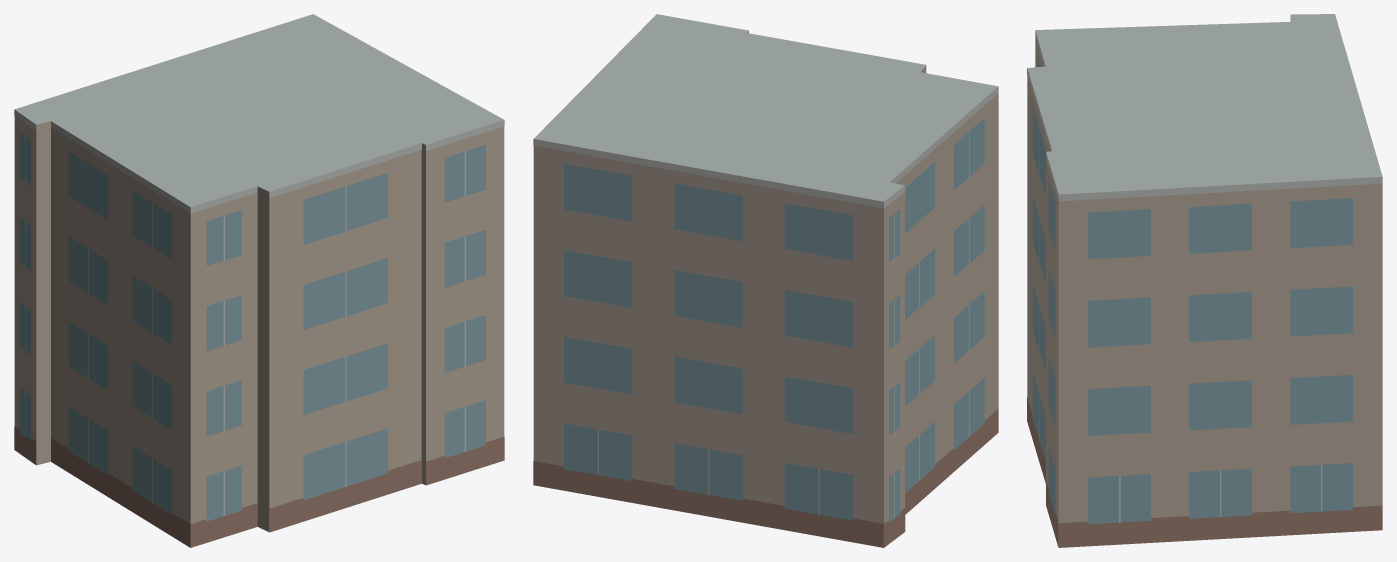
Rendered from survey-upis-33006576.glb.
The picture shows the model from 3 angles, left to right: view 1: azimuth 30°, elevation 25°; view 2: azimuth 150°, elevation 25°; view 3: azimuth 270°, elevation 25°; orthographic projection. The views are drawn at different scales.
Visible parts, largest first — view 1: survey-upis-33006576.tmp; view 2: survey-upis-33006576.tmp; view 3: survey-upis-33006576.tmp.
Part boxes in pixels (left/top/right/bottom): survey-upis-33006576.tmp: left=14, top=14, right=504, bottom=547; survey-upis-33006576.tmp: left=533, top=14, right=998, bottom=547; survey-upis-33006576.tmp: left=1027, top=14, right=1382, bottom=547.
Bounding box in the file's own units: 14.04 × 12.8 × 11.68.
